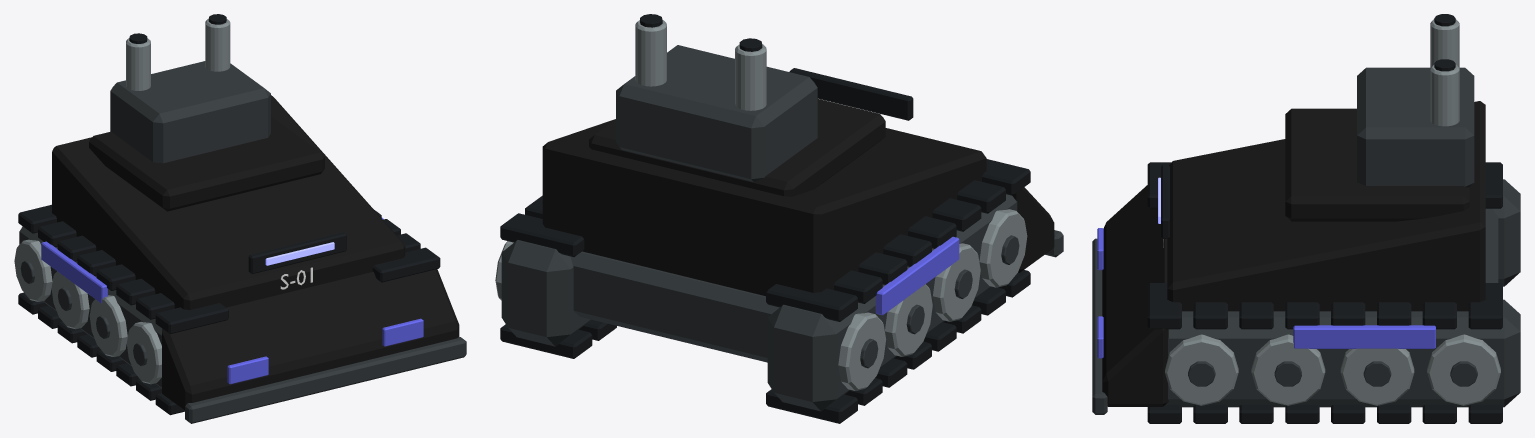
File: tankee.glb
3 views of the same model, side by side, from view 1: azimuth 30°, elevation 25°; view 2: azimuth 150°, elevation 25°; view 3: azimuth 270°, elevation 25° (orthographic). The views are drawn at different scales.
Visible parts, largest first — view 1: Cube109_5, Cube109_4, Cube109, Cube109_2, Cube109_1, Cube109_3, Cube109_6; view 2: Cube109, Cube109_4, Cube109_2, Cube109_1, Cube109_5, Cube109_3; view 3: Cube109_4, Cube109, Cube109_5, Cube109_1, Cube109_2, Cube109_3.
Part boxes in pixels (<box>): Cube109_5: <box>89,116,459,410</box>; Cube109_4: <box>52,95,405,309</box>; Cube109: <box>19,61,466,423</box>; Cube109_2: <box>18,14,440,415</box>; Cube109_1: <box>14,19,230,384</box>; Cube109_3: <box>41,217,423,384</box>; Cube109_6: <box>265,242,334,265</box>; Cube109: <box>501,45,1063,411</box>; Cube109_4: <box>542,119,986,296</box>; Cube109_2: <box>500,14,1030,423</box>; Cube109_1: <box>495,20,1027,390</box>; Cube109_5: <box>589,99,1054,272</box>; Cube109_3: <box>875,236,959,315</box>; Cube109_4: <box>1167,101,1485,311</box>; Cube109: <box>1092,67,1520,414</box>; Cube109_5: <box>1102,108,1469,406</box>; Cube109_1: <box>1165,19,1500,405</box>; Cube109_2: <box>1147,14,1502,423</box>; Cube109_3: <box>1097,228,1435,358</box>.
Size of the model in its own units: 0.9938 by 0.8687 by 1.1.
